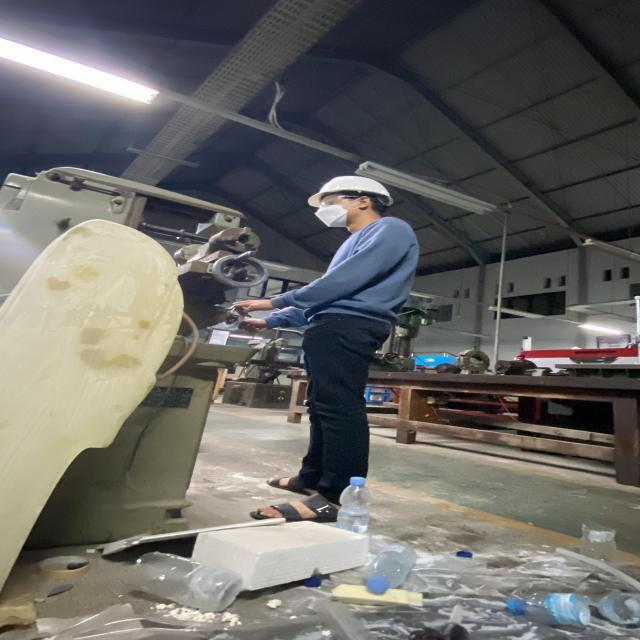glasses: (311, 193, 362, 206)
